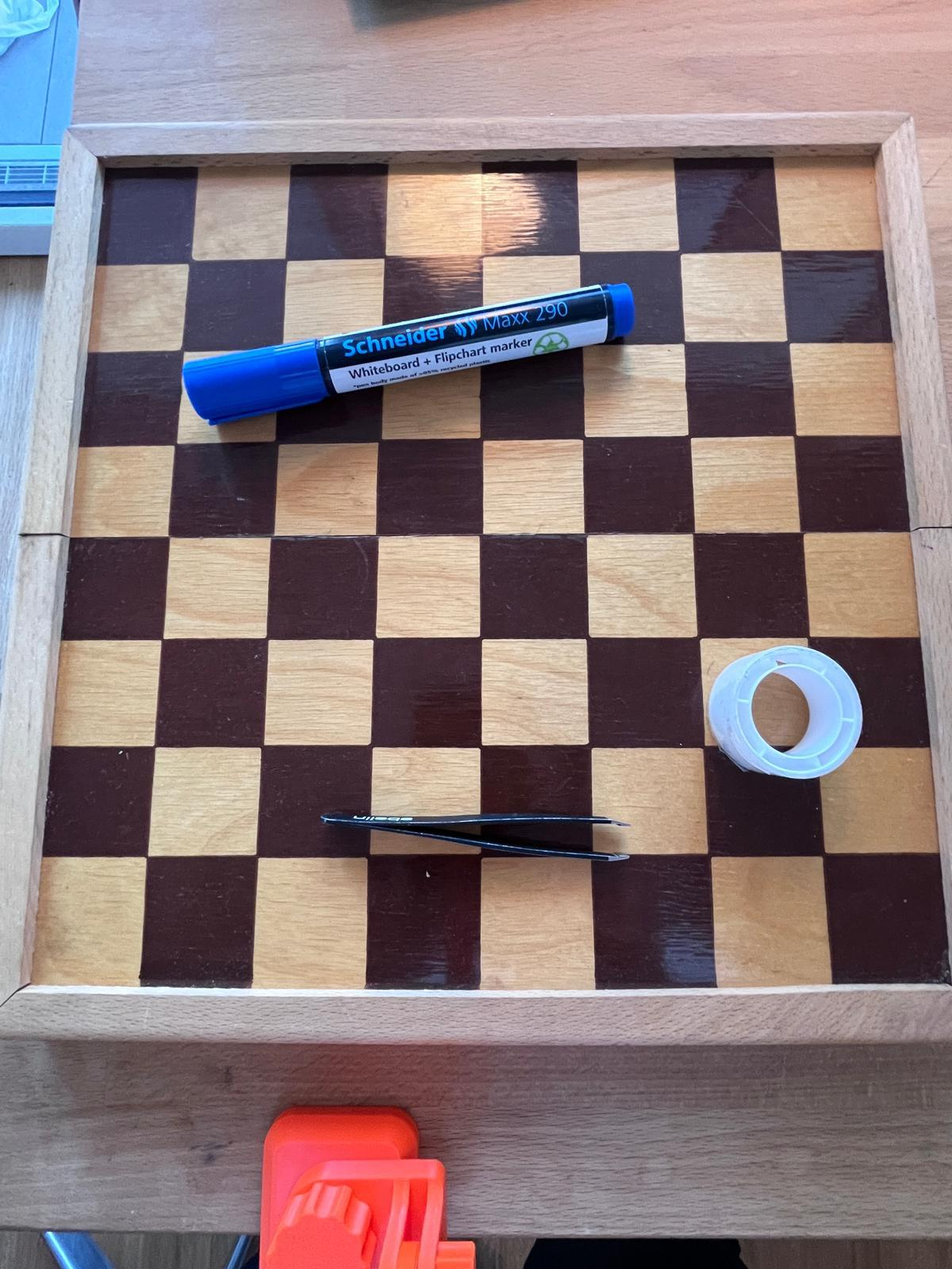marker: (182, 281, 633, 439)
tape: (701, 647, 869, 784)
tweezer: (322, 795, 624, 866)
